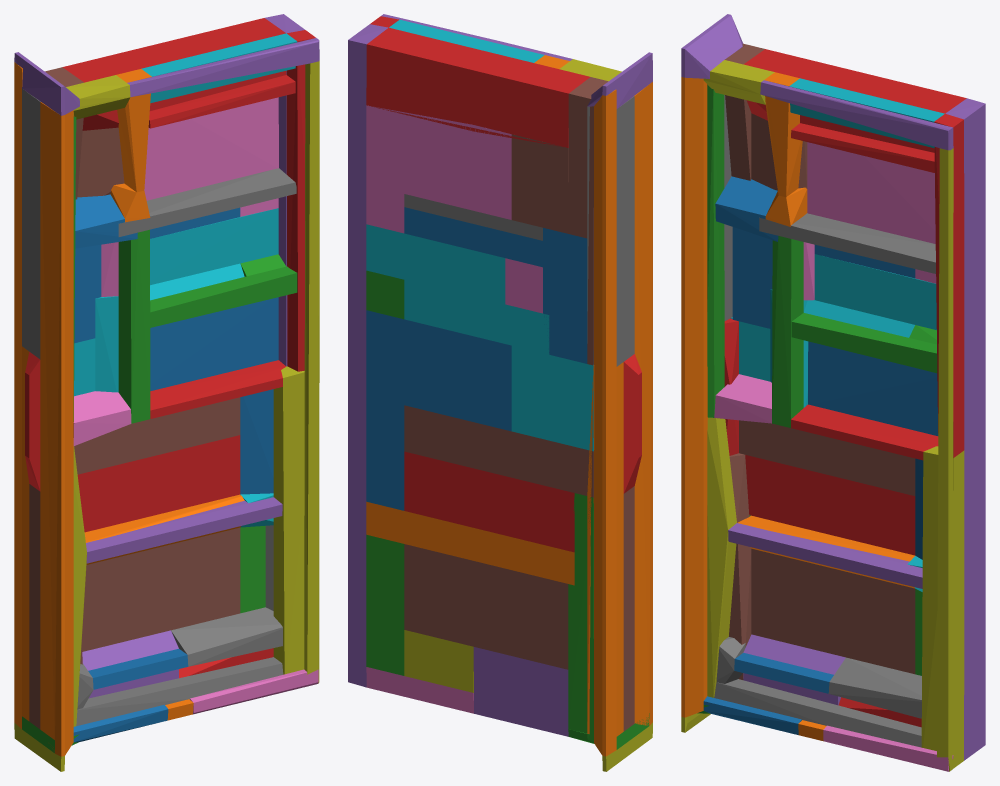
File: Drawer_07_cvx.obj
The picture shows the model from 3 angles, left to right: view 1: azimuth 30°, elevation 25°; view 2: azimuth 150°, elevation 25°; view 3: azimuth 330°, elevation 25°; orthographic projection.
Parts seen in each view (by area): view 1: scenes/apartment_0000_coacd/output/Unknown/Kitchen_Oven/Drawer_0; view 2: scenes/apartment_0000_coacd/output/Unknown/Kitchen_Oven/Drawer_0; view 3: scenes/apartment_0000_coacd/output/Unknown/Kitchen_Oven/Drawer_0.
Part boxes in pixels (left/top/right/bottom): scenes/apartment_0000_coacd/output/Unknown/Kitchen_Oven/Drawer_0: left=14, top=14, right=319, bottom=771; scenes/apartment_0000_coacd/output/Unknown/Kitchen_Oven/Drawer_0: left=348, top=14, right=652, bottom=771; scenes/apartment_0000_coacd/output/Unknown/Kitchen_Oven/Drawer_0: left=681, top=14, right=985, bottom=771.
Size of the model in its own units: 0.5642 by 1.34 by 0.1666.
